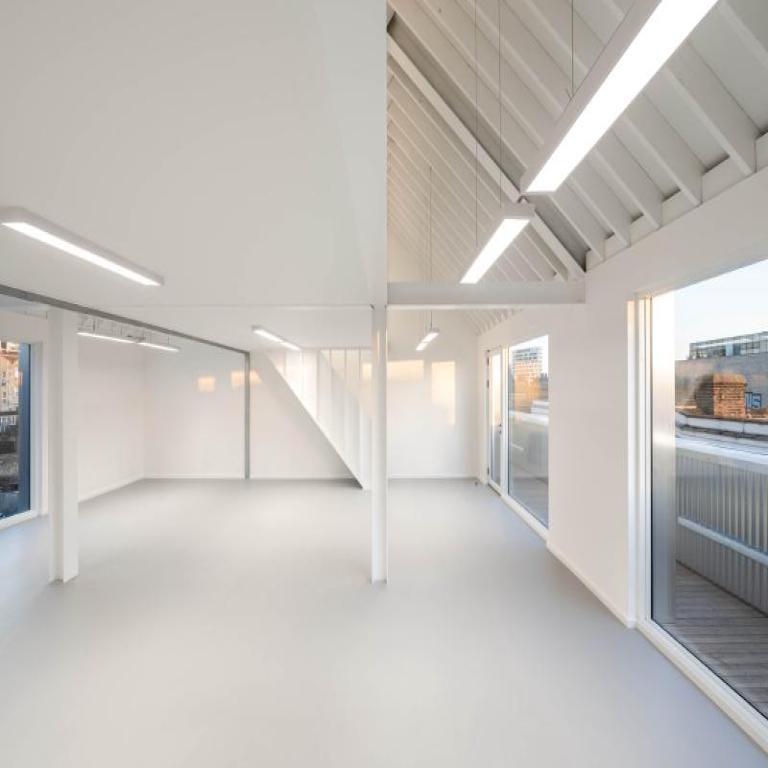white-walls: (33, 23, 366, 275)
